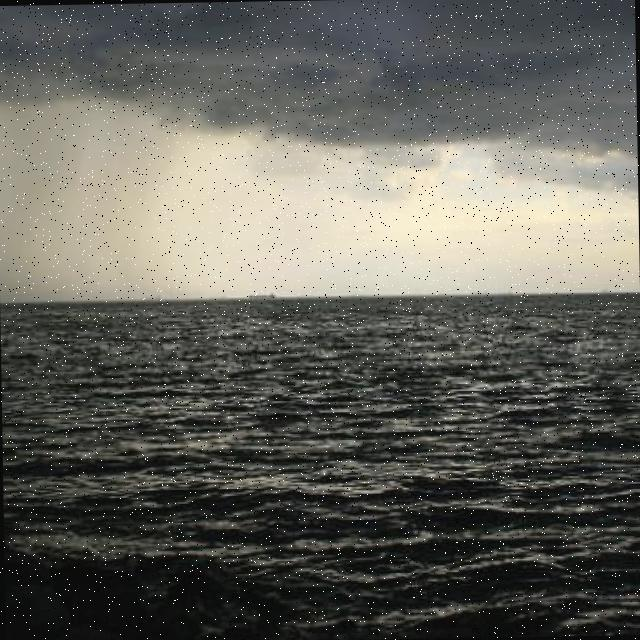Ns: (1, 1, 639, 215)
